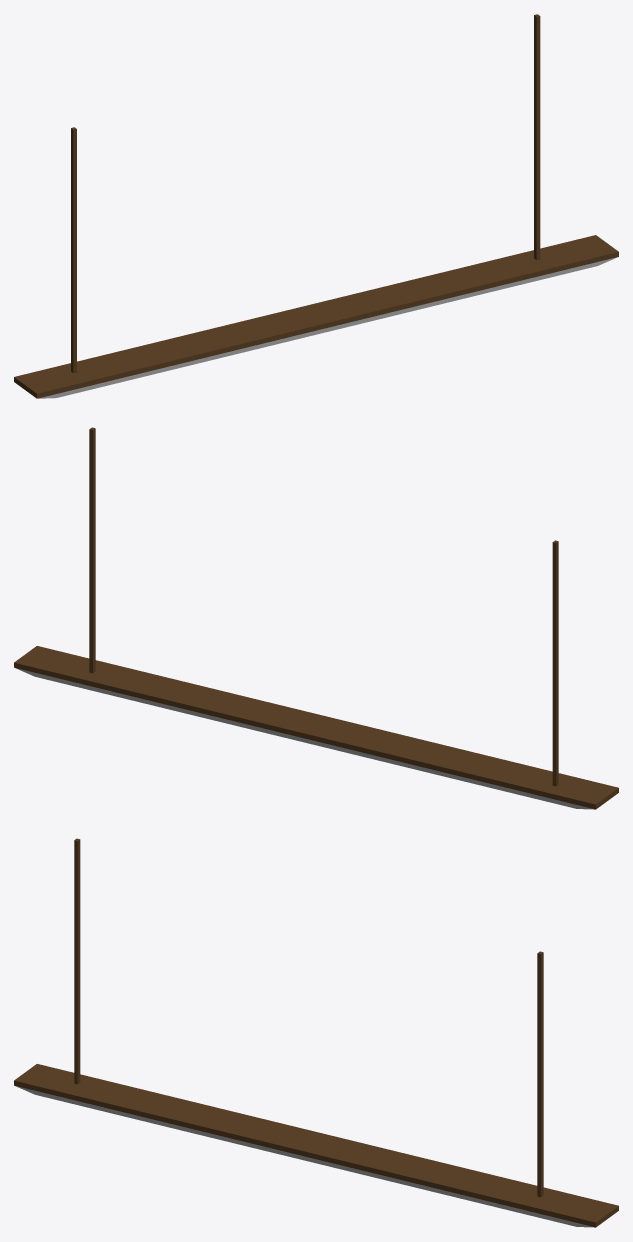
Rendered from Lights-Ceiling.fbx.
3 renders of one model, top to bottom at view 1: azimuth 30°, elevation 25°; view 2: azimuth 150°, elevation 25°; view 3: azimuth 330°, elevation 25°, orthographic.
Visible parts, largest first — view 1: Cube.019; view 2: Cube.019; view 3: Cube.019.
Part boxes in pixels (bbox=[...]): Cube.019: bbox=[14, 14, 618, 398]; Cube.019: bbox=[14, 427, 618, 809]; Cube.019: bbox=[14, 838, 618, 1227].
Bounding box in the file's own units: 416 × 180 × 28.52.
